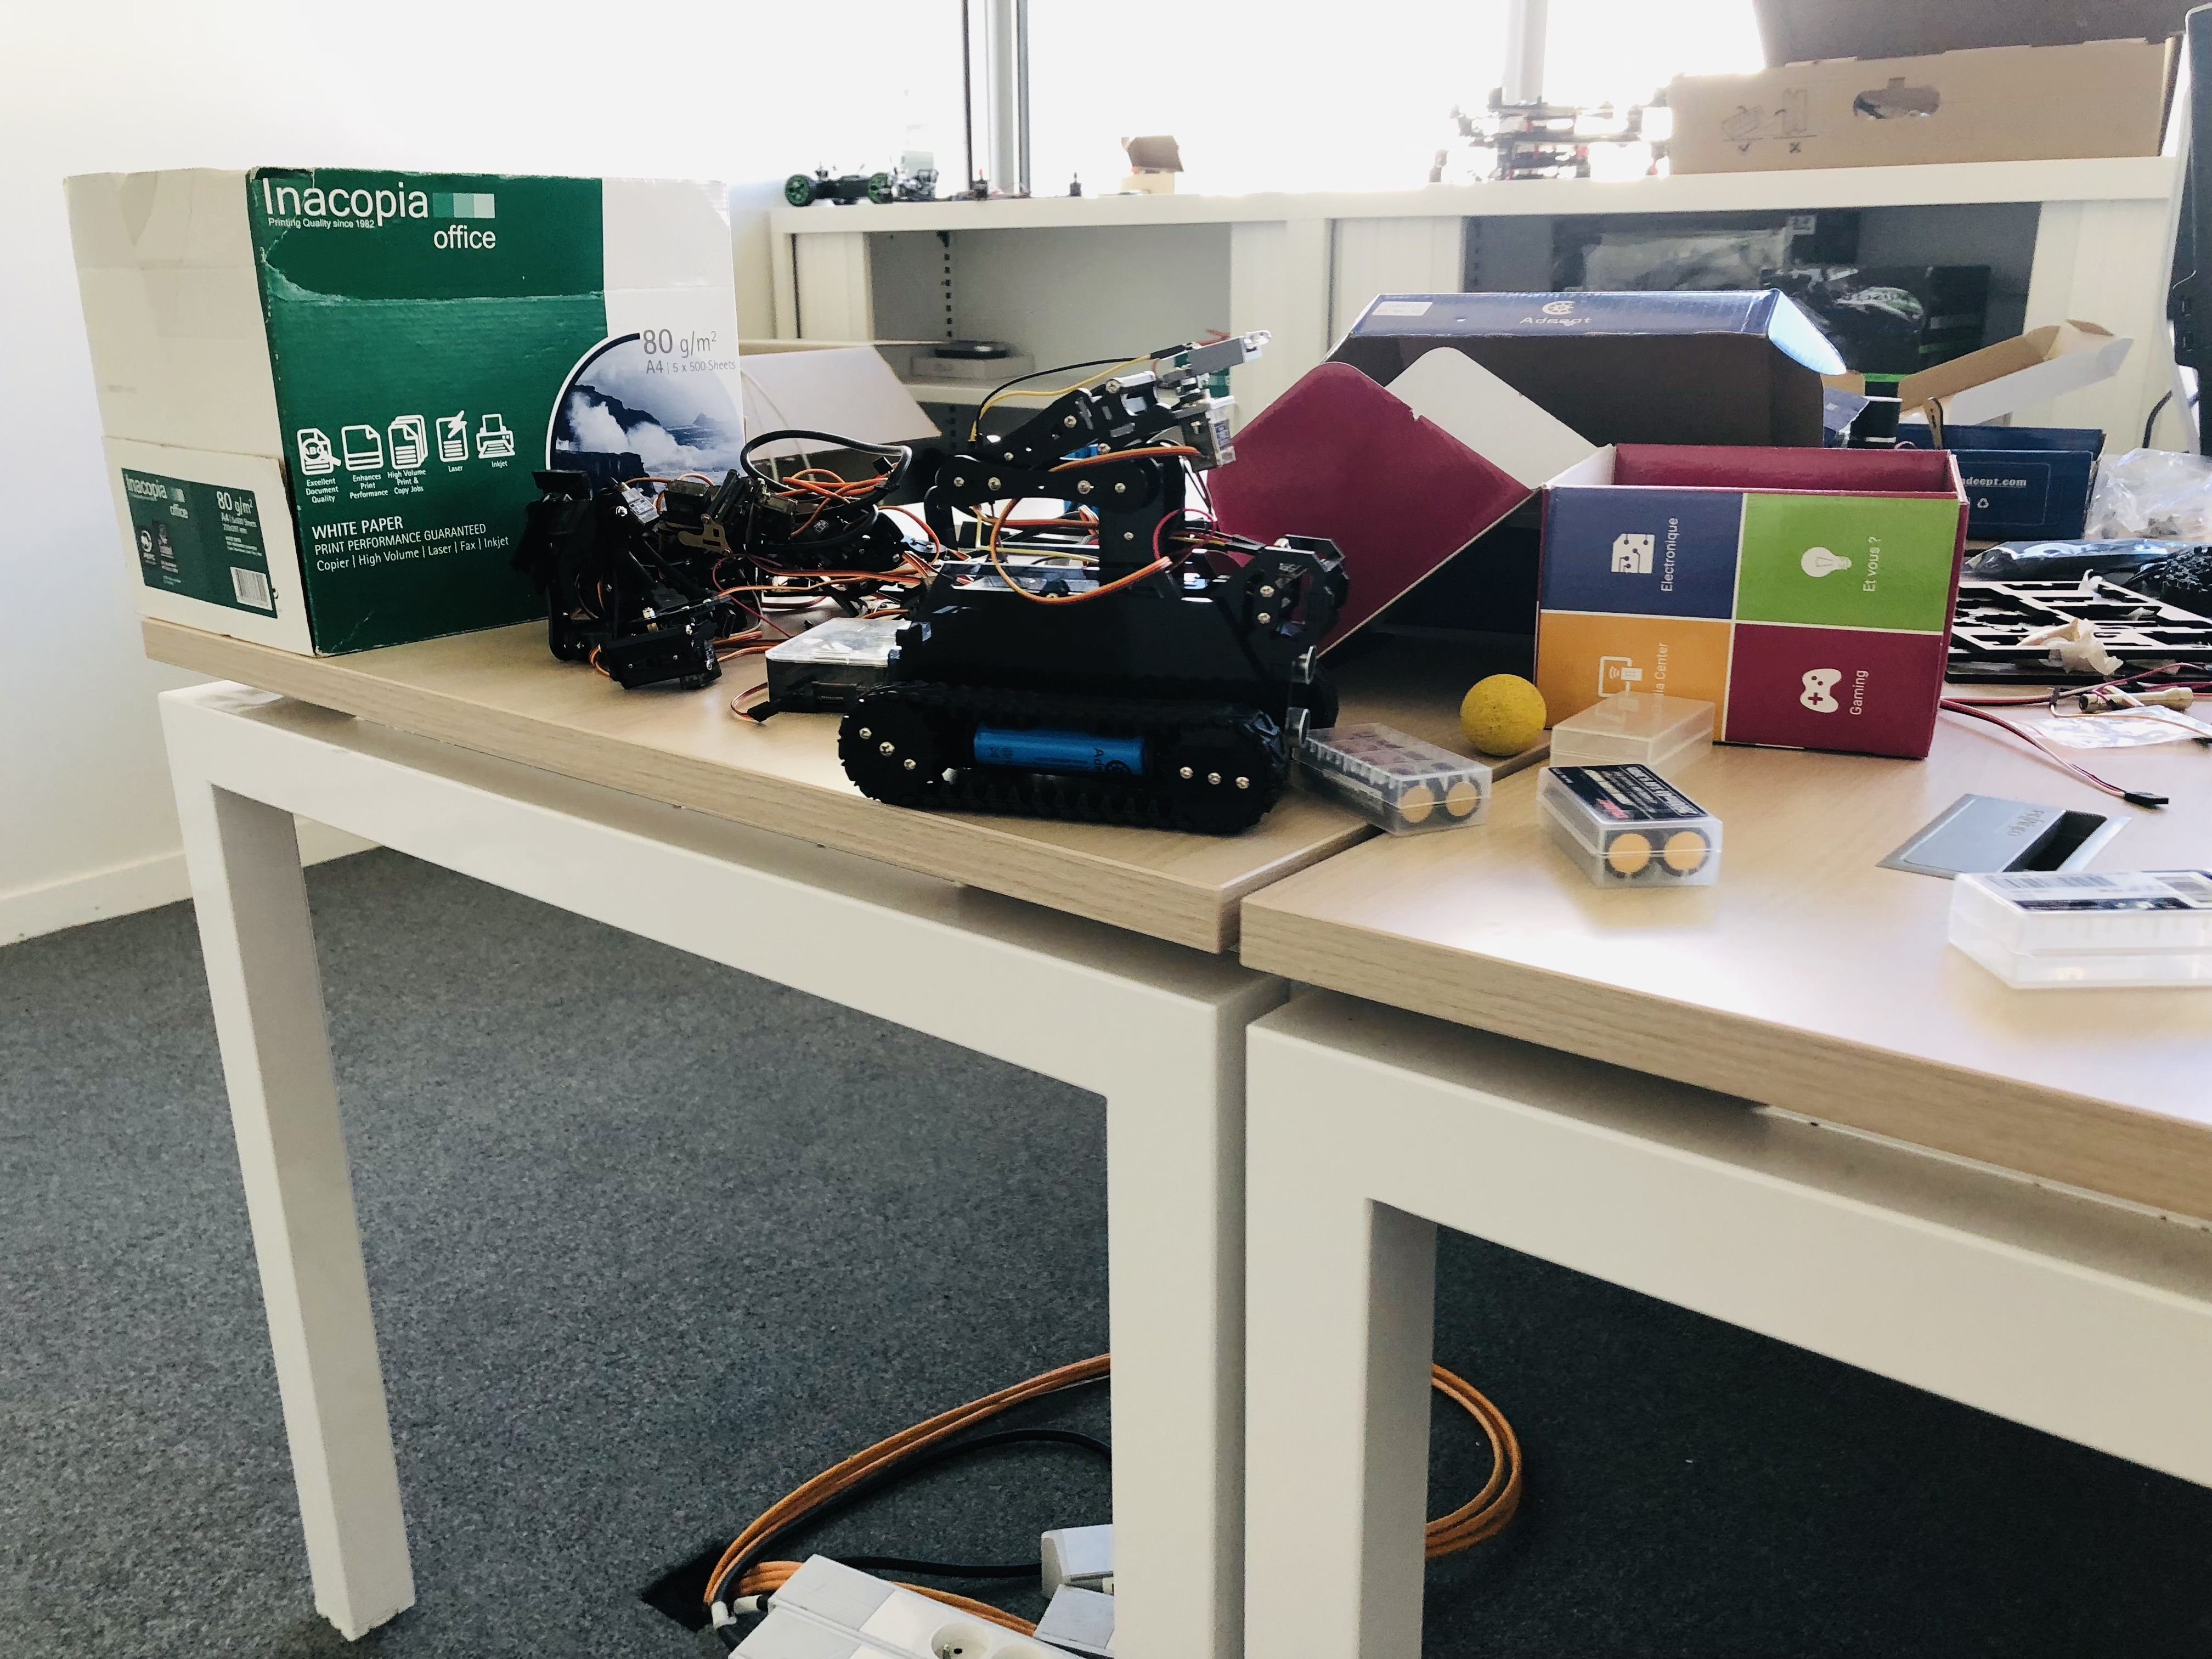rasptank: (838, 329, 1346, 826)
